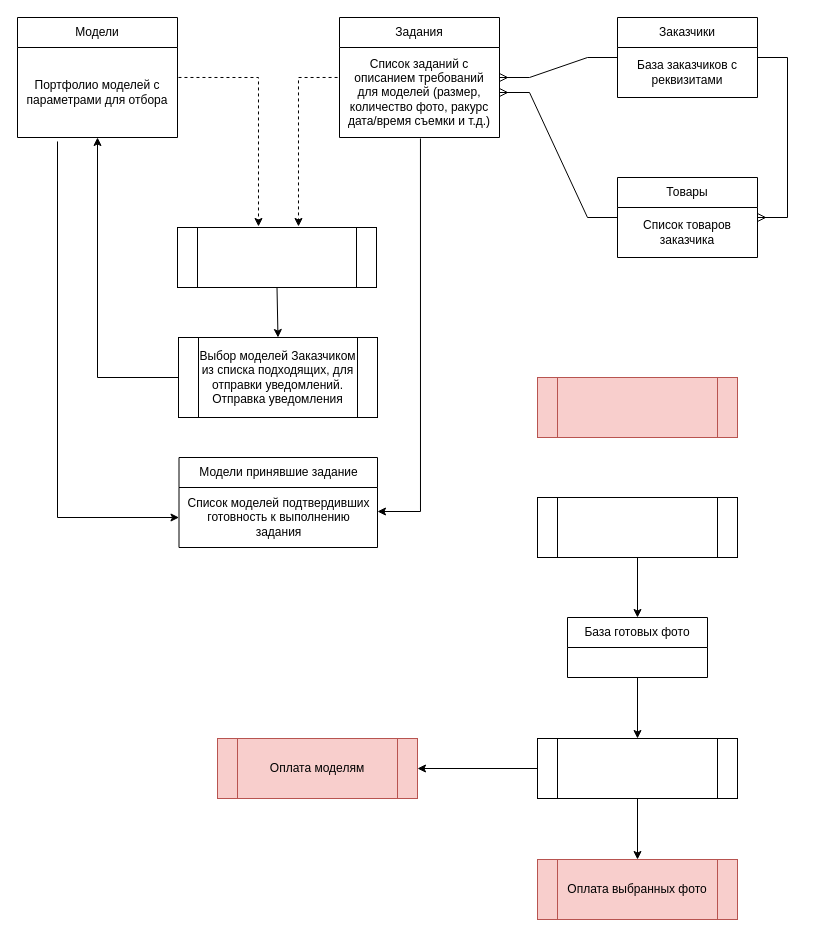
The diagram is 813 pixels wide and 937 high, and some of its shapes have lost their labels. Here are the shapes that lost their labels. From the top down, the centre of each, then its label:
At (x=276, y=257): "Подбор моделей под требования задания".
At (x=637, y=407): "Подготовка фото сета в студии".
At (x=637, y=527): "Выполнение задания моделями".
At (x=637, y=768): "Выбор фото Заказчиком 1 - к покупке 2 - резерв".
